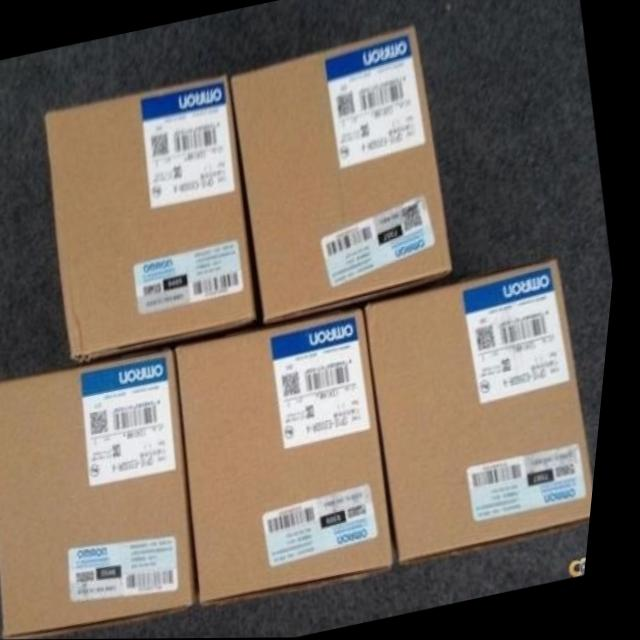box: (370, 257, 603, 564), (233, 27, 459, 321), (183, 309, 406, 606), (46, 73, 263, 362), (0, 347, 207, 640)
